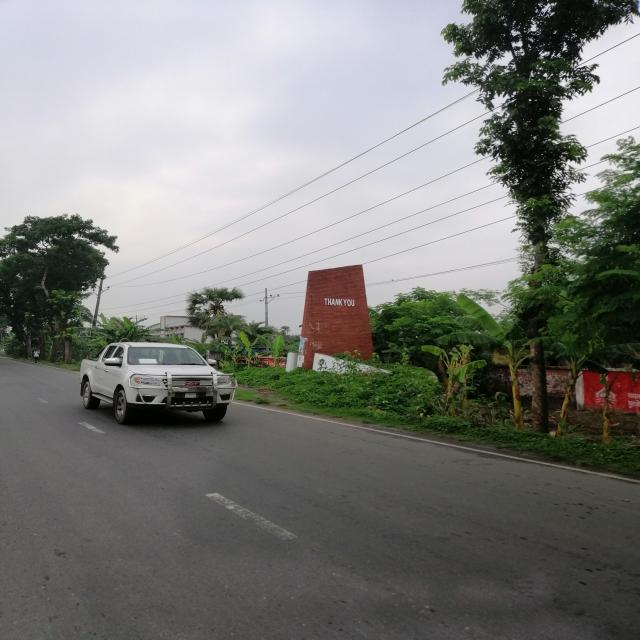Zeep: (76, 341, 235, 425)
